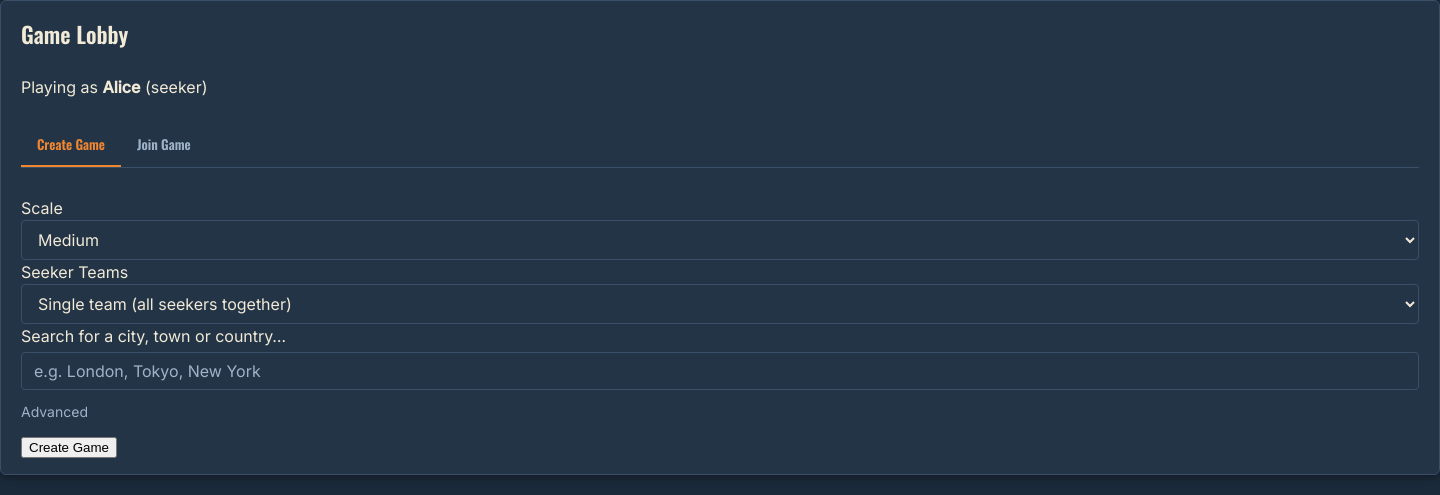
Test: GameForm › shows game ID input on join tab
What coordinates should you click on to do the following:
click the tab "Join Game"
I would click on:
 (164, 145)
Its box is x1=121 y1=123 x2=207 y2=167.
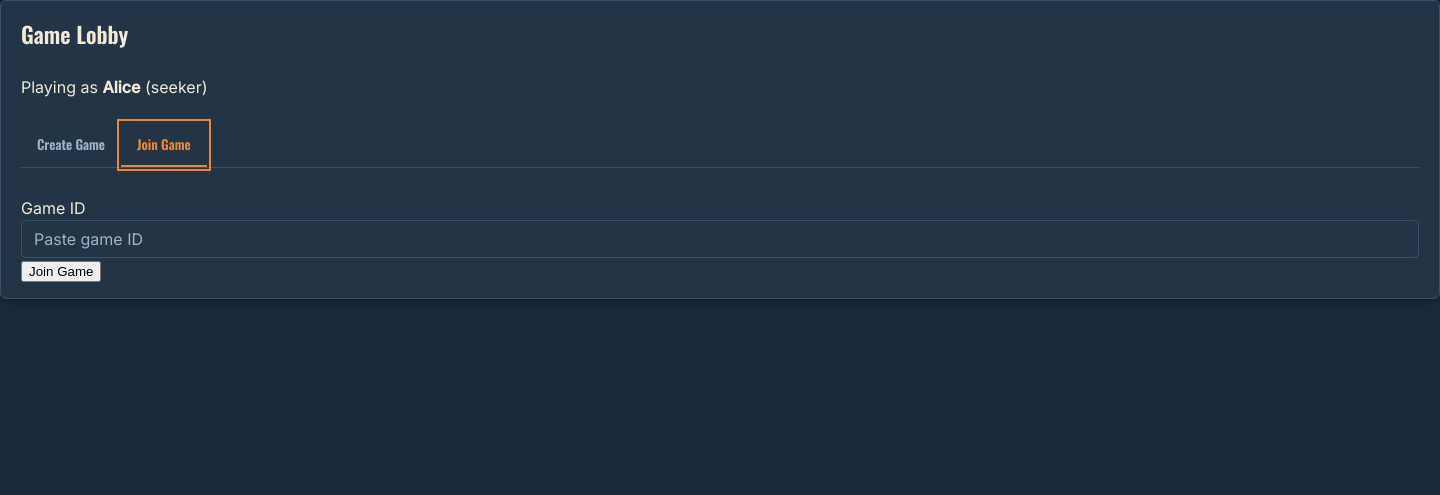
Check: the field labelled "Game ID" is shown, box x1=21 y1=220 x2=1419 y2=258
